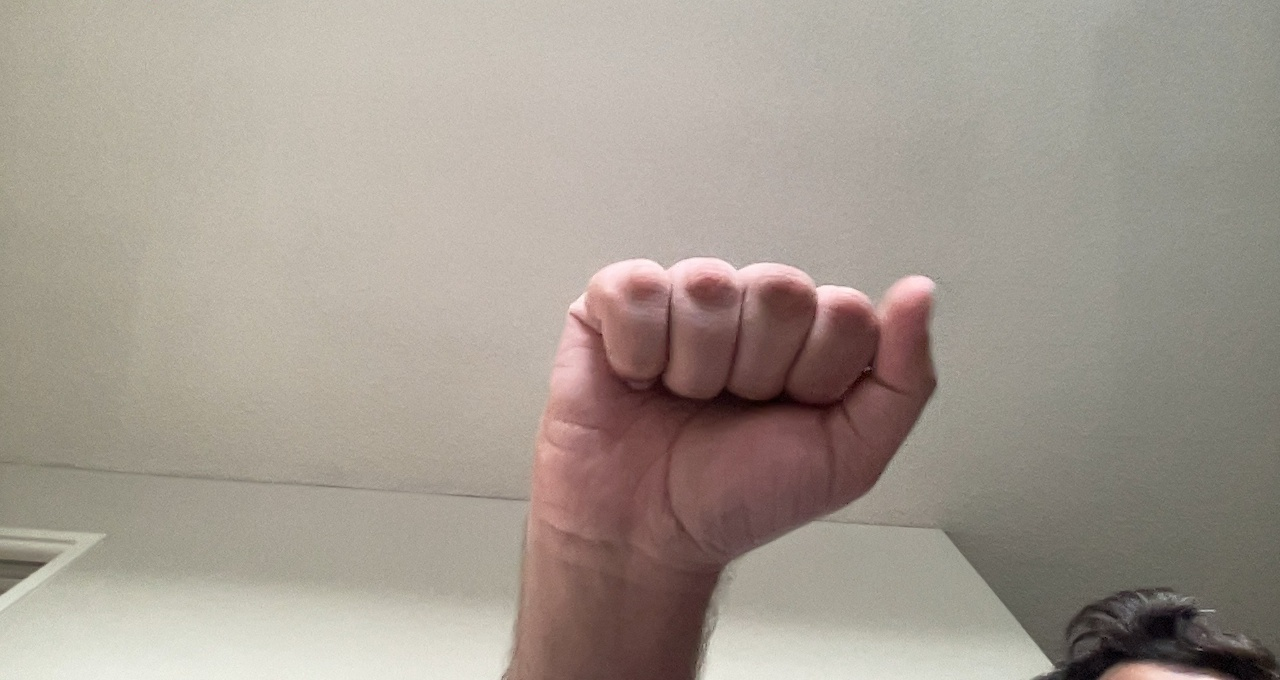closedfist: (514, 241, 958, 584)
